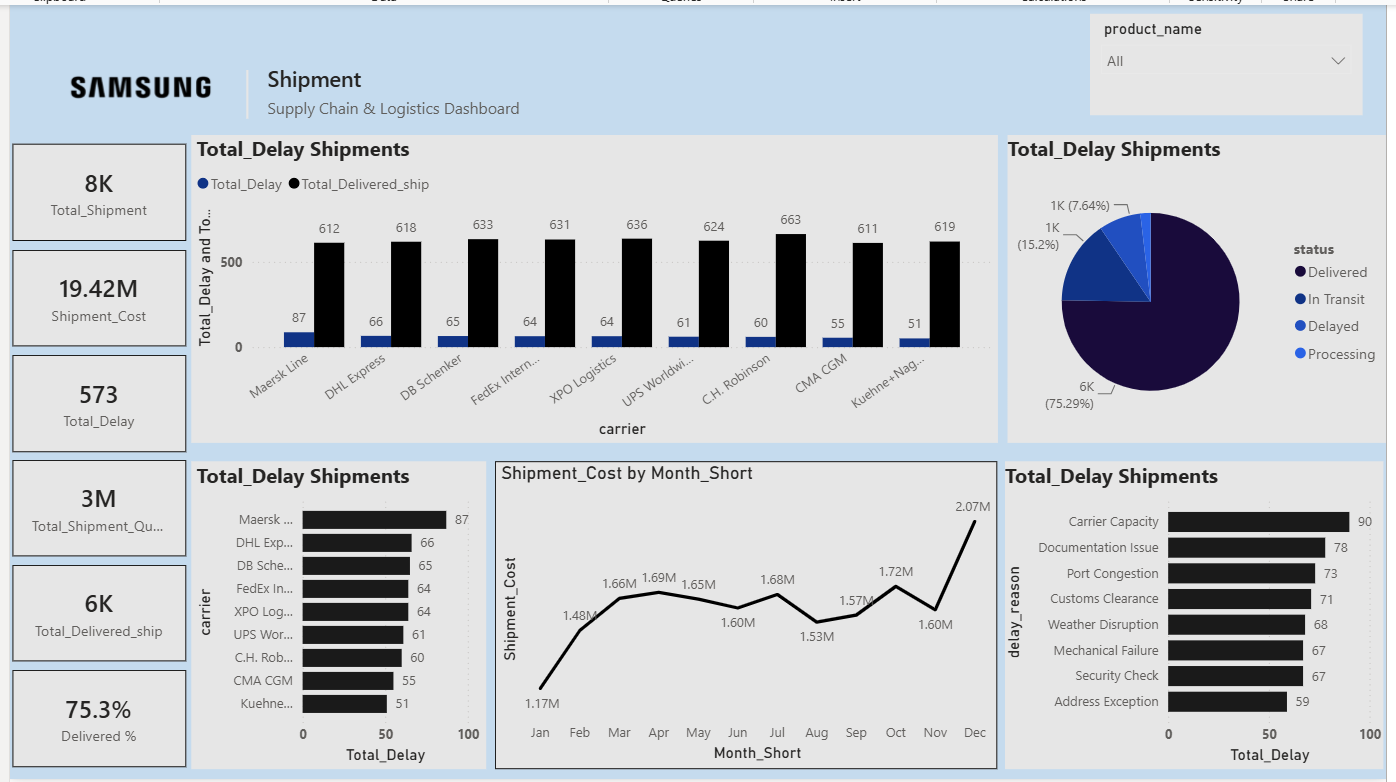

This screenshot's page, from the dashboard's own definition file:
{"tool":"powerbi","page":{"name":"Shipment","canvas":[1280,720],"ordinal":4},"visuals":[{"type":"actionButton","title":"Shipment","box":[239.5,54.7,239.5,66.3],"z":0},{"type":"actionButton","box":[0,0,237.2,152.3],"z":1000},{"type":"shape","box":[199,60.4,43.9,45.3],"z":2000},{"type":"cardVisual","fields":{"Data":["MeasuresTable.Shipment_Cost"]},"box":[2.3,227.9,161.6,89.5],"z":3000},{"type":"cardVisual","fields":{"Data":["MeasuresTable.Total_Delay"]},"box":[2.3,325.6,161.6,90.7],"z":4000},{"type":"cardVisual","fields":{"Data":["MeasuresTable.Delivered %"]},"box":[2.3,618.6,161.6,90.7],"z":5000},{"type":"cardVisual","fields":{"Data":["MeasuresTable.Total_Delivered_ship"]},"box":[2.3,520.9,161.6,89.5],"z":6000},{"type":"cardVisual","fields":{"Data":["MeasuresTable.Total_Shipment_Quantity"]},"box":[2.3,423.3,161.6,89.5],"z":7000},{"type":"cardVisual","fields":{"Data":["MeasuresTable.Total_Shipment"]},"box":[2.3,129.1,161.6,90.7],"z":8000},{"type":"clusteredBarChart","title":"Total_Delay Shipments","fields":{"Y":["MeasuresTable.Total_Delay"],"Category":["fact_shipment.carrier"]},"box":[168.6,424.4,274.4,286],"z":9000},{"type":"clusteredColumnChart","title":"Total_Delay Shipments","fields":{"Y":["MeasuresTable.Total_Delay","MeasuresTable.Total_Delivered_ship"],"Category":["fact_shipment.carrier"]},"box":[168.6,120.9,750,286],"z":10000},{"type":"lineChart","fields":{"Y":["MeasuresTable.Shipment_Cost"],"Category":["dim_date.Month_Short"]},"box":[451.2,424.4,467.4,286],"z":11000},{"type":"clusteredBarChart","title":"Total_Delay Shipments","fields":{"Y":["MeasuresTable.Total_Delay"],"Category":["fact_shipment.delay_reason"]},"box":[925.6,424.4,352.3,286],"z":12000},{"type":"pieChart","title":"Total_Delay Shipments","fields":{"Y":["MeasuresTable.Total_Shipment"],"Category":["fact_shipment.status"]},"box":[927.9,120.9,352.3,286],"z":13000},{"type":"slicer","fields":{"Values":["dim_product.product_name"]},"box":[1004.7,8.1,253.5,94.2],"z":14000}]}

Visuals, with their boxes on the page's 1280x720 design canvas (x1, y1, x2, y2). These are canvas units, not pixel positions in the 1396x782 screenshot, which may show the page scaled, cropped or inside an application window:
"Shipment" actionButton: region(240, 55, 479, 121)
actionButton: region(0, 0, 237, 152)
shape: region(199, 60, 243, 106)
cardVisual - MeasuresTable.Shipment_Cost: region(2, 228, 164, 317)
cardVisual - MeasuresTable.Total_Delay: region(2, 326, 164, 416)
cardVisual - MeasuresTable.Delivered %: region(2, 619, 164, 709)
cardVisual - MeasuresTable.Total_Delivered_ship: region(2, 521, 164, 610)
cardVisual - MeasuresTable.Total_Shipment_Quantity: region(2, 423, 164, 513)
cardVisual - MeasuresTable.Total_Shipment: region(2, 129, 164, 220)
"Total_Delay Shipments" clusteredBarChart: region(169, 424, 443, 710)
"Total_Delay Shipments" clusteredColumnChart: region(169, 121, 919, 407)
lineChart - MeasuresTable.Shipment_Cost x dim_date.Month_Short: region(451, 424, 919, 710)
"Total_Delay Shipments" clusteredBarChart: region(926, 424, 1278, 710)
"Total_Delay Shipments" pieChart: region(928, 121, 1280, 407)
slicer - dim_product.product_name: region(1005, 8, 1258, 102)
